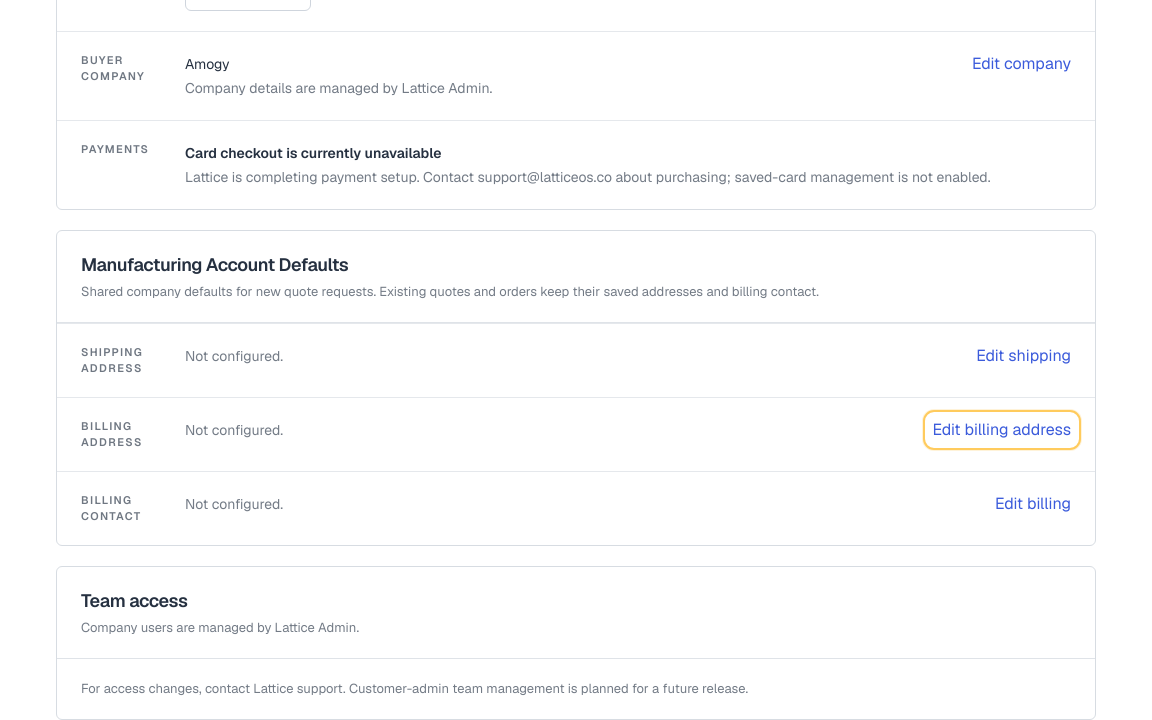
AccountSettingsWorkspace › guides a quote visitor to billing-address until they open the editor, without saving changes
(page scrolled)
Expected: the field labelled "Full name" is not shown
What coordinates should you click on to do the following:
click the button "Edit billing address"
I would click on:
 (1002, 430)
Its box is [924,412,1079,448].
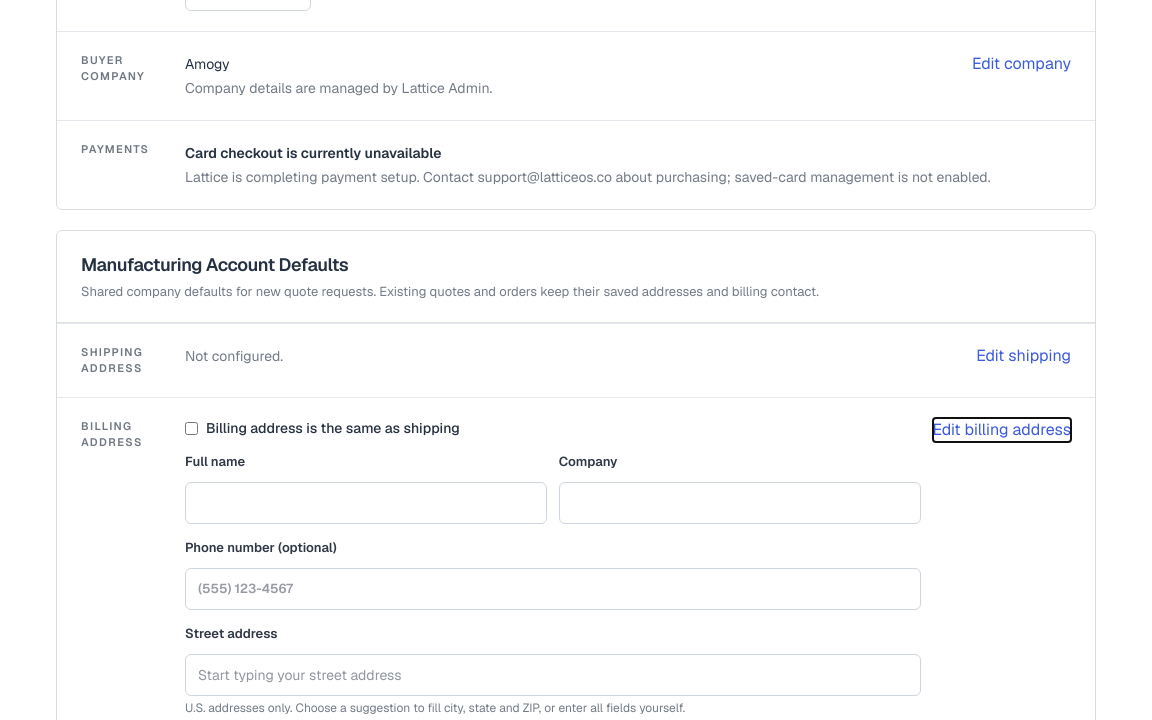
Expected: the field labelled "Full name" is shown, [185,482,547,524]
